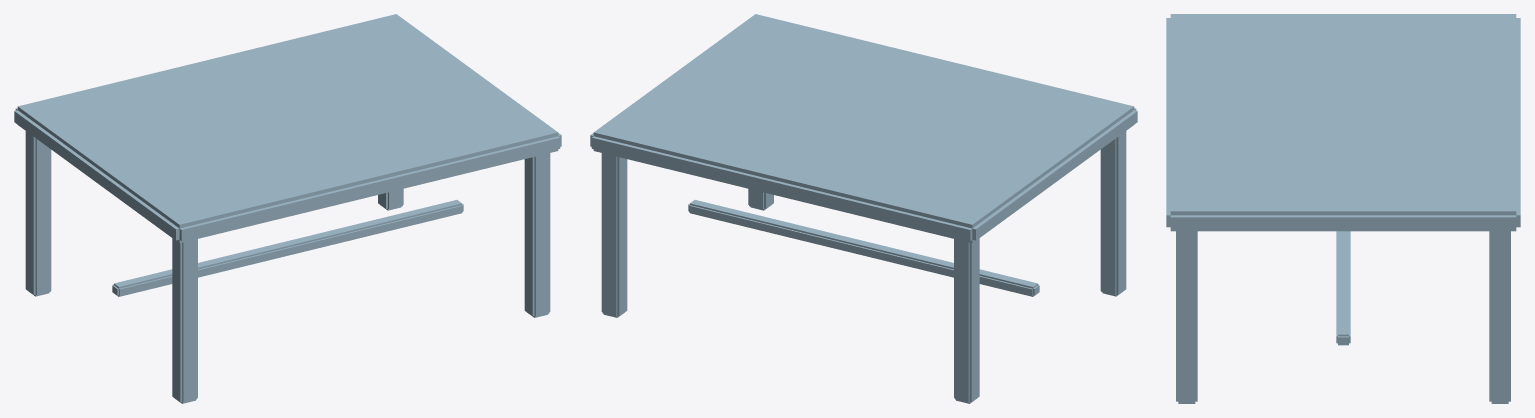
File: glass_table_v0.glb
3 views of the same model, side by side, from view 1: azimuth 30°, elevation 25°; view 2: azimuth 150°, elevation 25°; view 3: azimuth 270°, elevation 25° (orthographic). The views are drawn at different scales.
Parts seen in each view (by area): view 1: glass_table_v0; view 2: glass_table_v0; view 3: glass_table_v0.
Part boxes in pixels (x1=…): glass_table_v0: x1=14, y1=14, x2=561, y2=403; glass_table_v0: x1=590, y1=14, x2=1137, y2=403; glass_table_v0: x1=1166, y1=14, x2=1520, y2=403.
Bounding box in the file's own units: 1.96 × 0.89 × 1.46.
